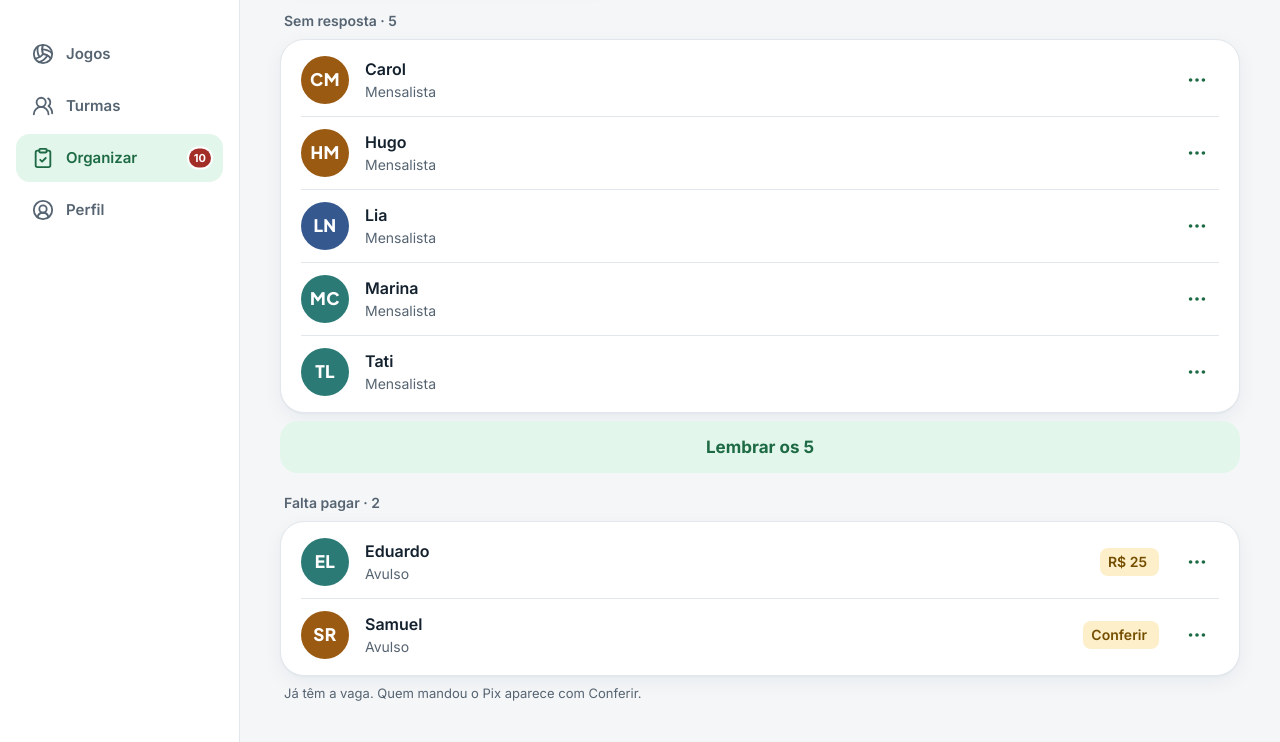
4.2 Visão de organizador da turma › Pix enviado: confere e aprova na própria folha da pessoa, sem ir para A resolver
(page scrolled)
Click the button named "Opções para Samuel": click(1197, 635) [1175,613,1219,657]
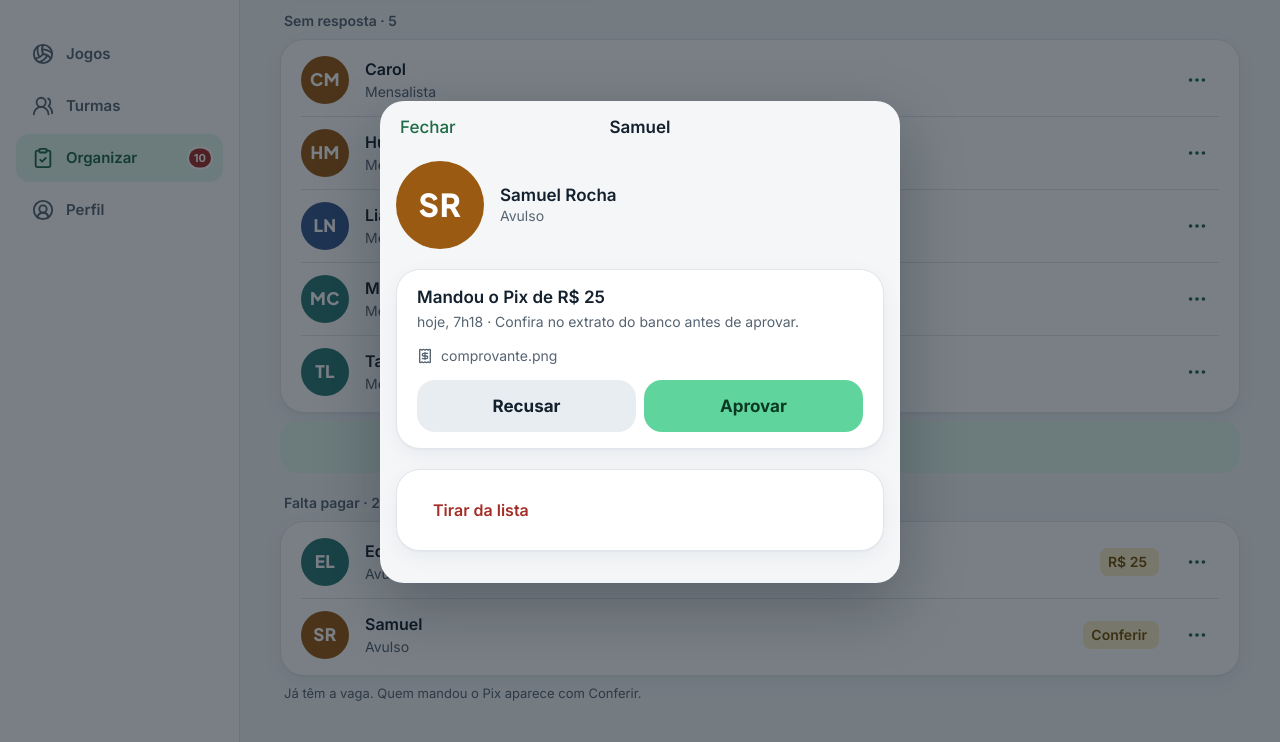
Expected: the text "Mandou o Pix de R$ 25" is shown, [417,287,605,307]
Click the button "Aprovar": click(754, 406) [644,380,863,432]
(page scrolled)
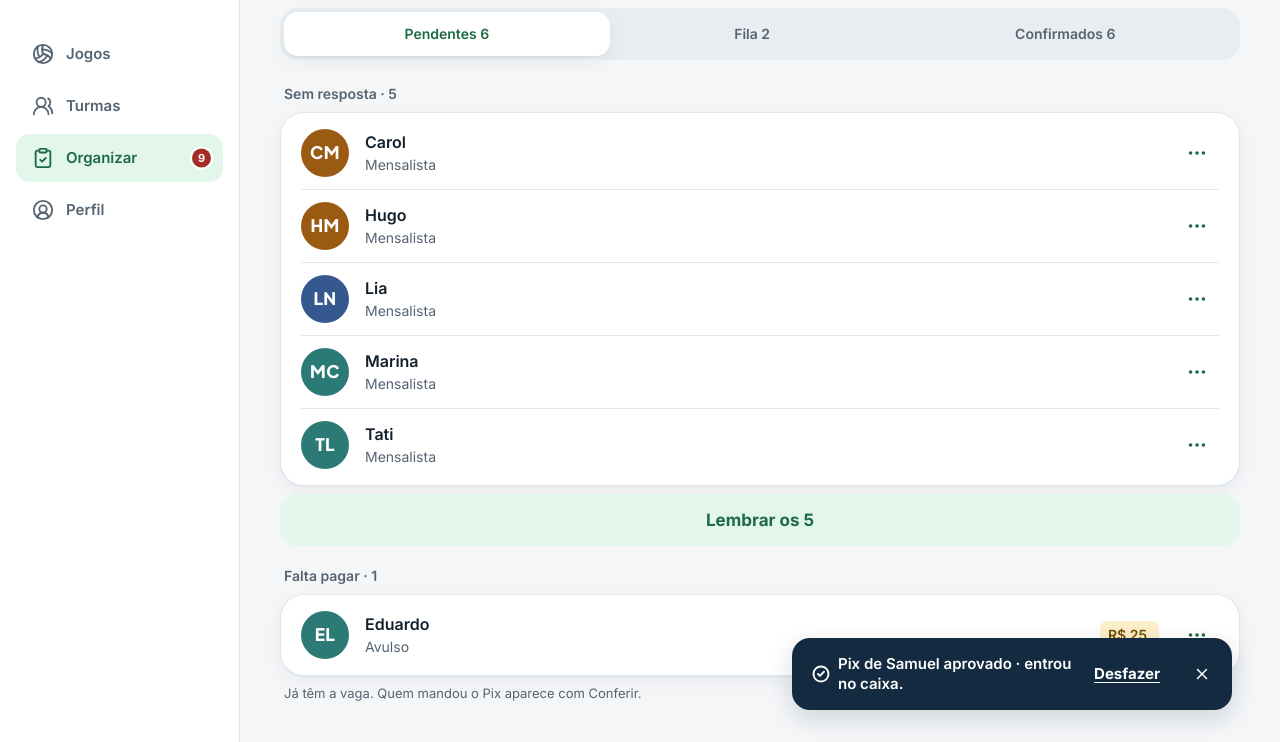
Expected: the text "Pix de Samuel aprovado · entrou no caixa." is shown, [838,646,1074,702]
